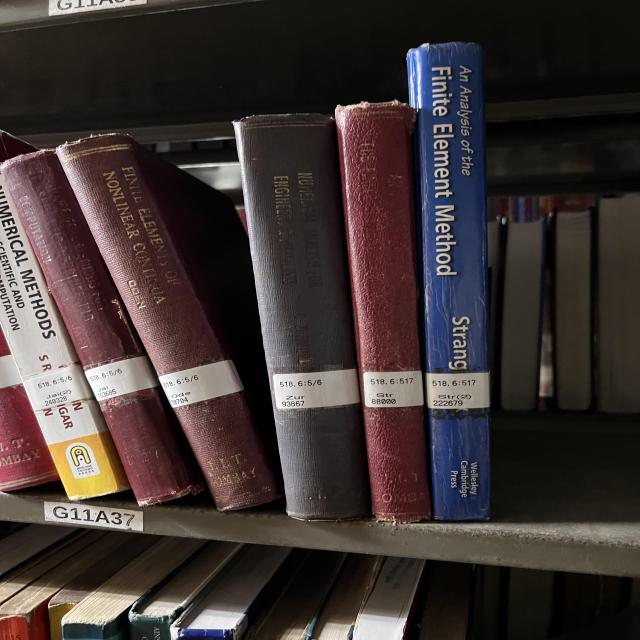Book: (55, 134, 280, 511), (2, 150, 203, 505), (233, 114, 370, 520), (0, 178, 128, 499), (335, 101, 432, 522), (408, 42, 490, 521)
Label: (158, 360, 243, 408), (273, 369, 360, 409), (85, 356, 158, 401), (23, 365, 93, 411), (425, 372, 490, 409), (363, 370, 423, 408)
